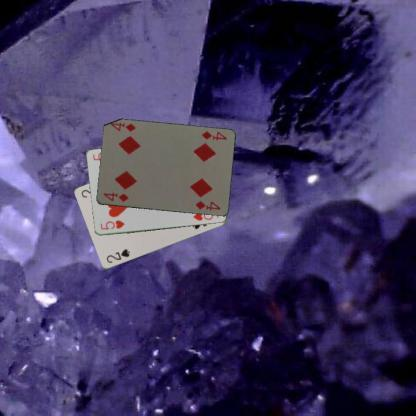2s: (104, 246, 131, 264)
4d: (198, 128, 228, 142), (101, 190, 130, 203)
5h: (98, 218, 125, 231)
